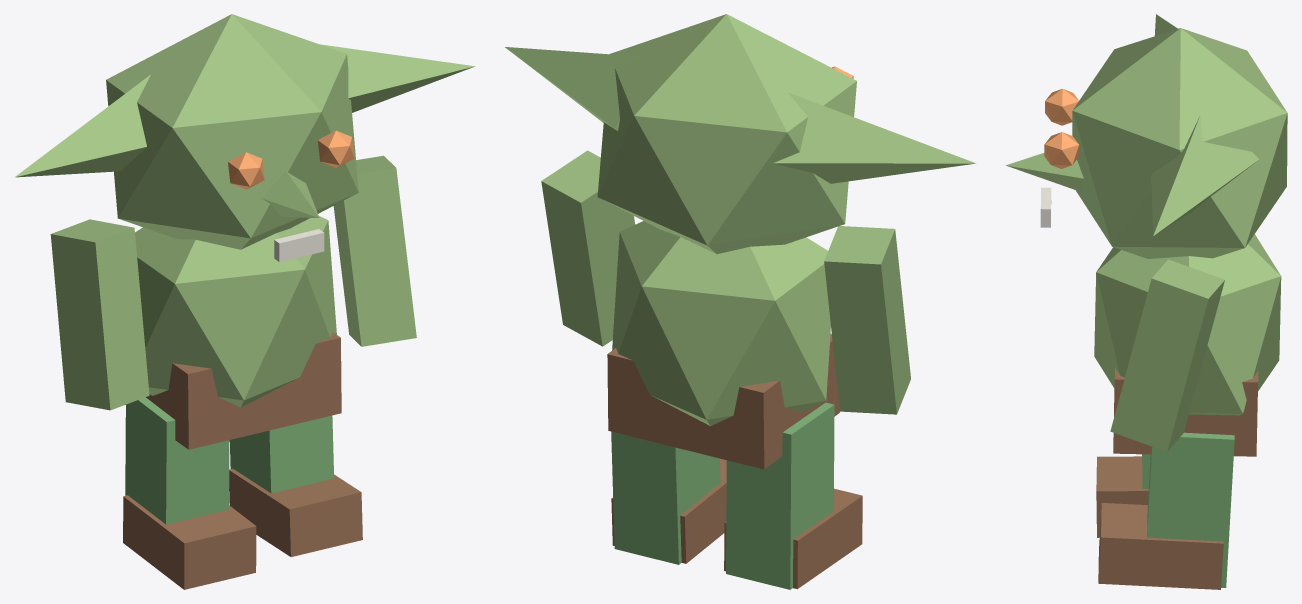
File: npcpose_goblin_idle_10.glb
3 views of the same model, side by side, from view 1: azimuth 30°, elevation 25°; view 2: azimuth 150°, elevation 25°; view 3: azimuth 270°, elevation 25° (orthographic). The views are drawn at different scales.
Parts seen in each view (by area): view 1: npcpose; view 2: npcpose; view 3: npcpose.
Part boxes in pixels (x1,y1,x2,y2): npcpose: (15,14,474,589); npcpose: (505,14,976,589); npcpose: (1005,14,1287,589).
Bounding box in the file's own units: 1.03 × 1.12 × 0.551.
